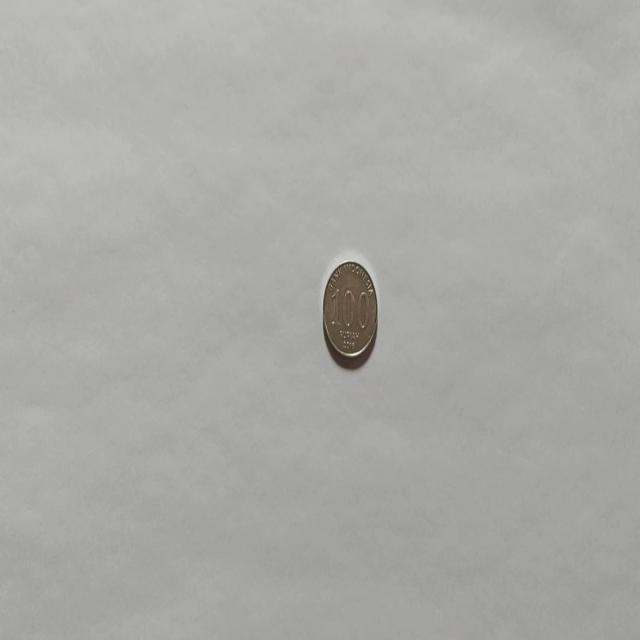seratus rupiah: (322, 258, 378, 364)
